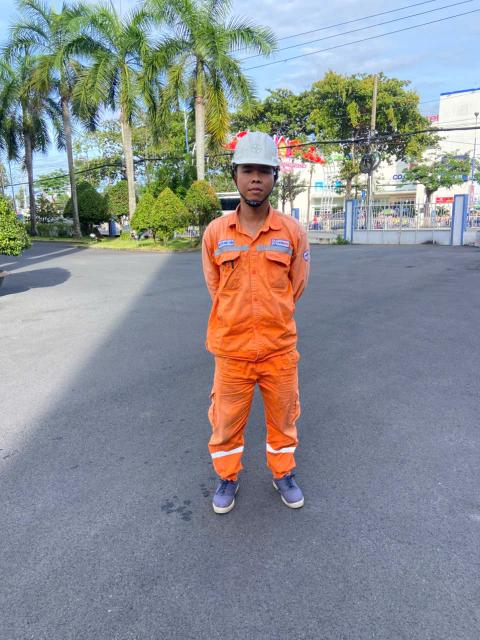helmet: (223, 125, 286, 178)
shoes: (265, 467, 316, 514), (201, 462, 242, 517)
